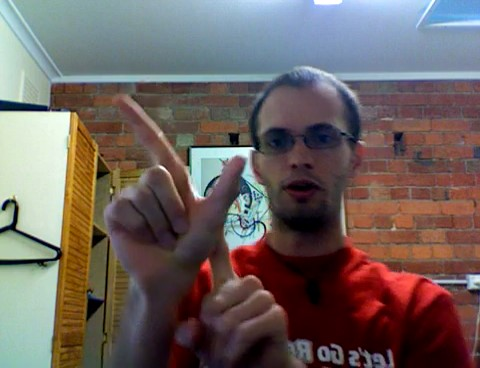Y: (98, 88, 288, 368)
